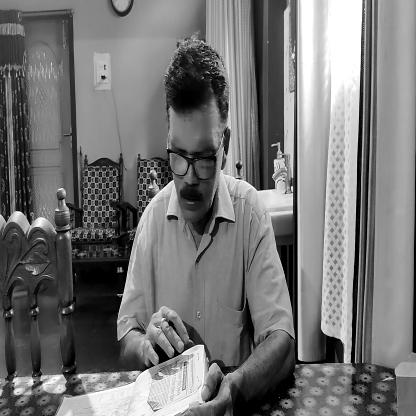Normal: (164, 40, 226, 222)
